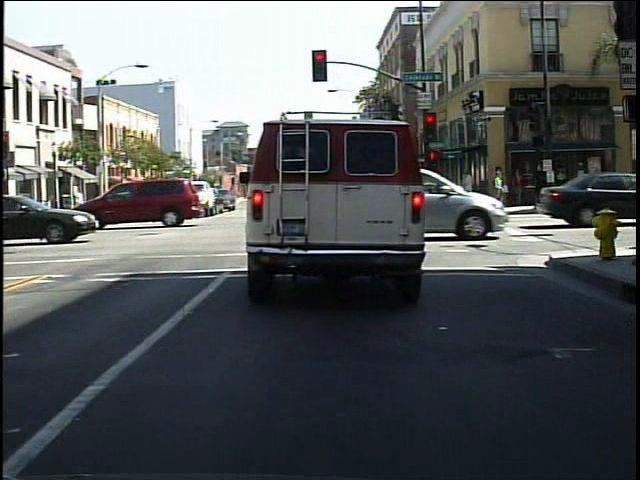person: (529, 159, 549, 209), (510, 165, 531, 209)
